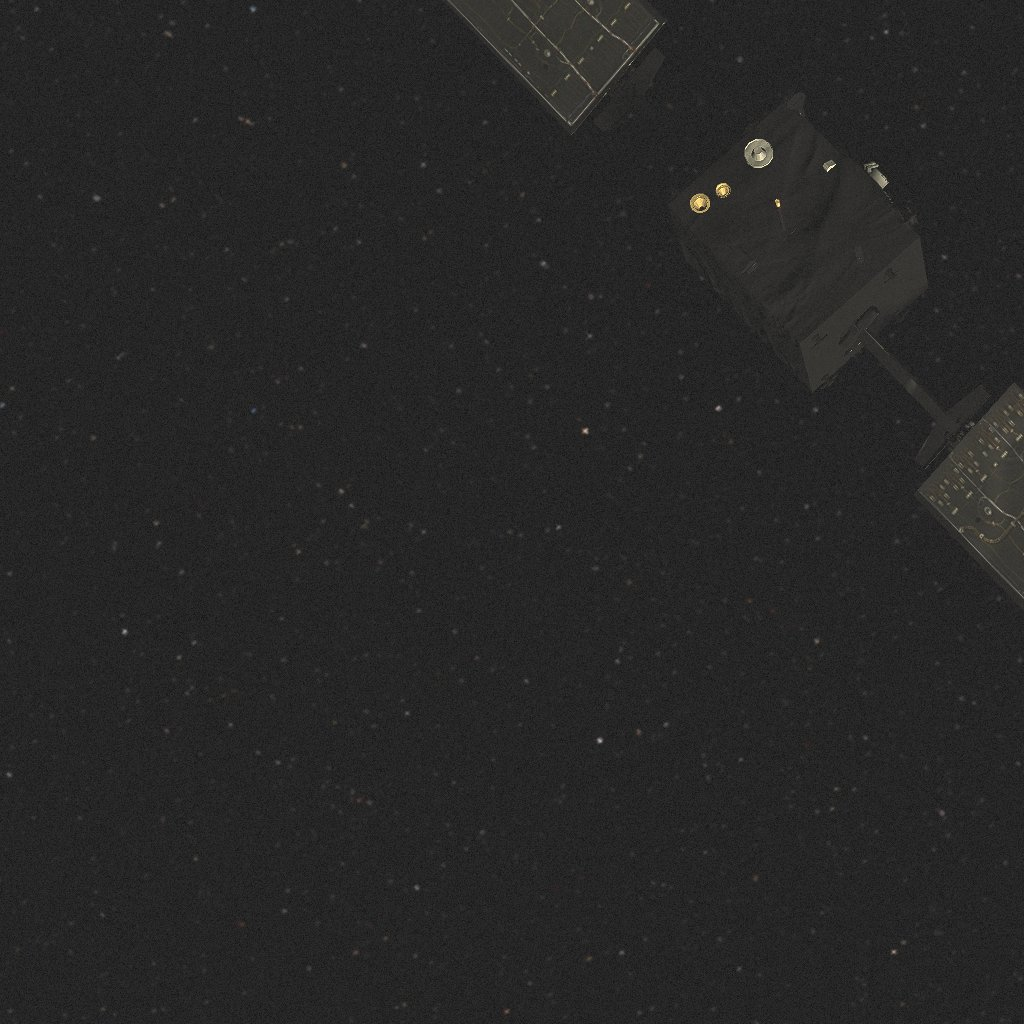smart_1: (412, 6, 1013, 637)
